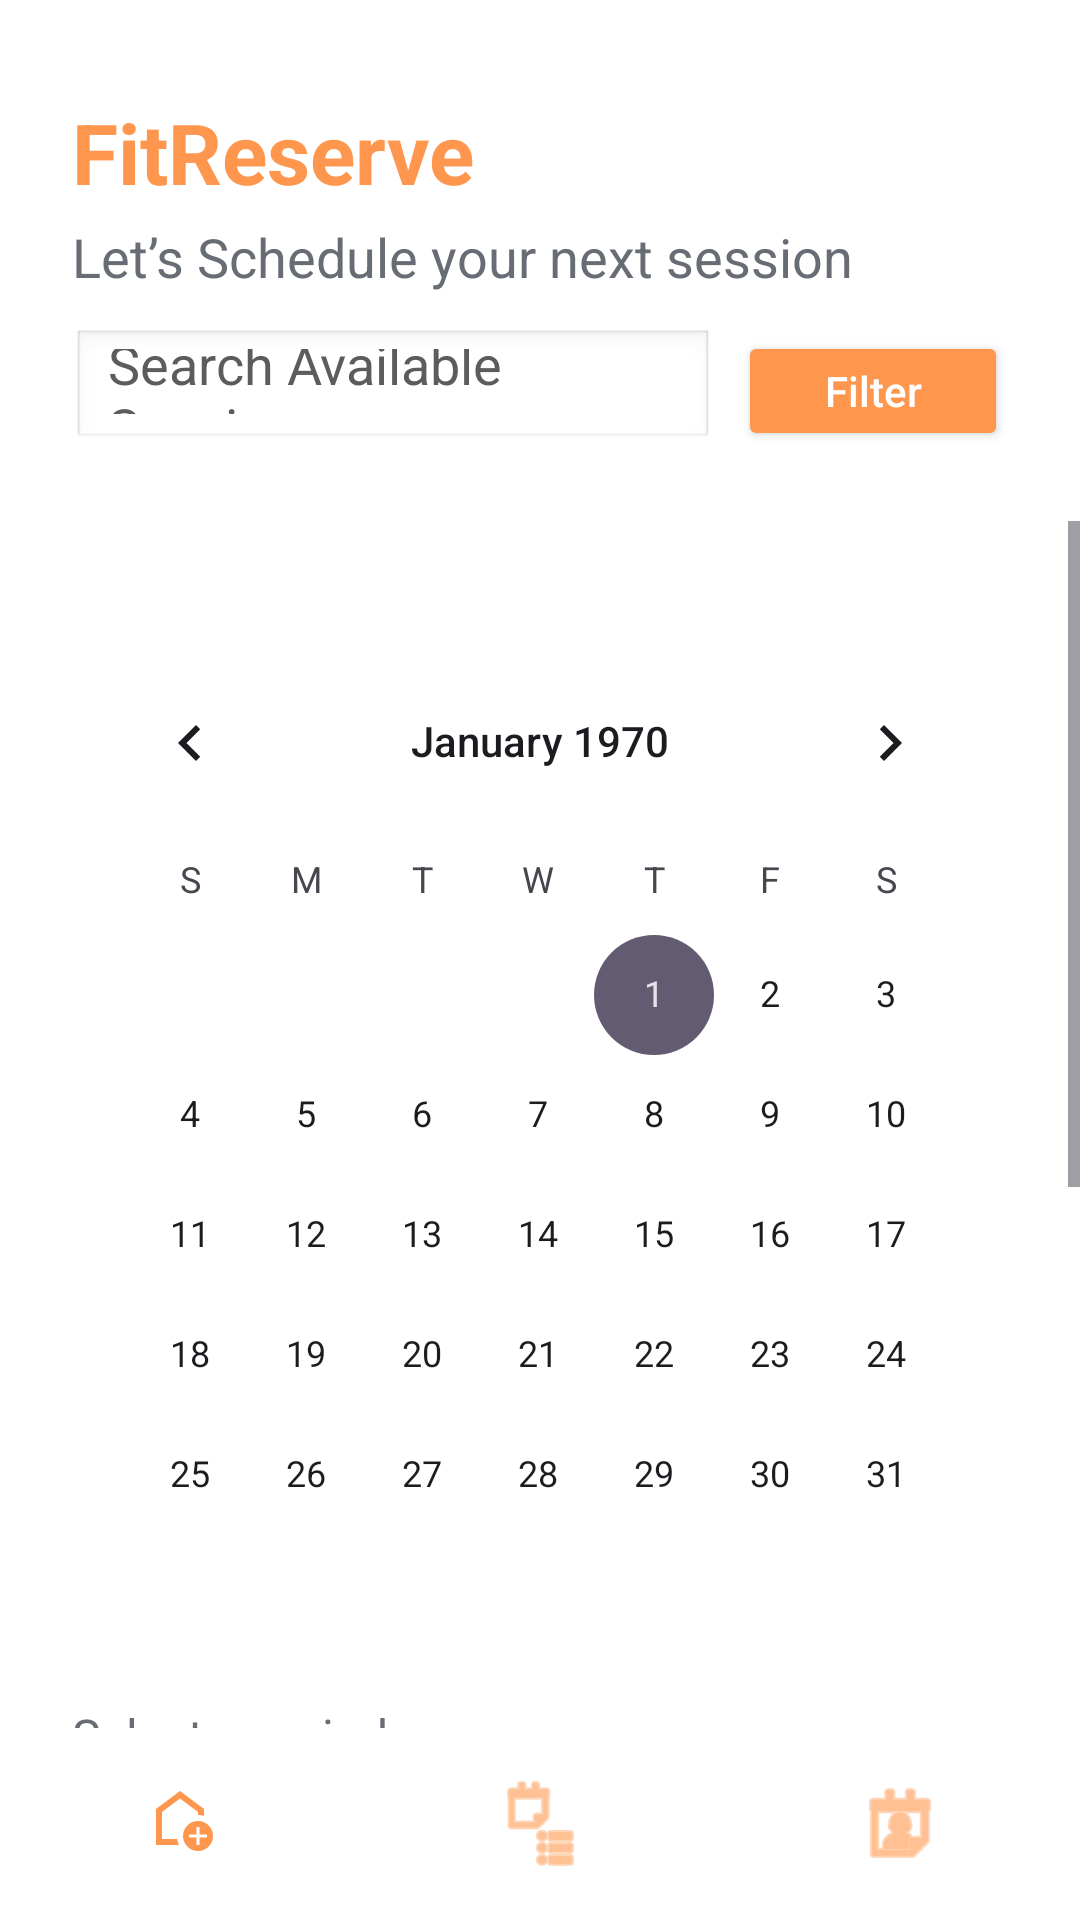

Point at icon controls on the screen. Image size 1080w x 1920h, points as (x,y).
agenda: (540,1823)
calendar: (900,1823)
home: (184,1821)
